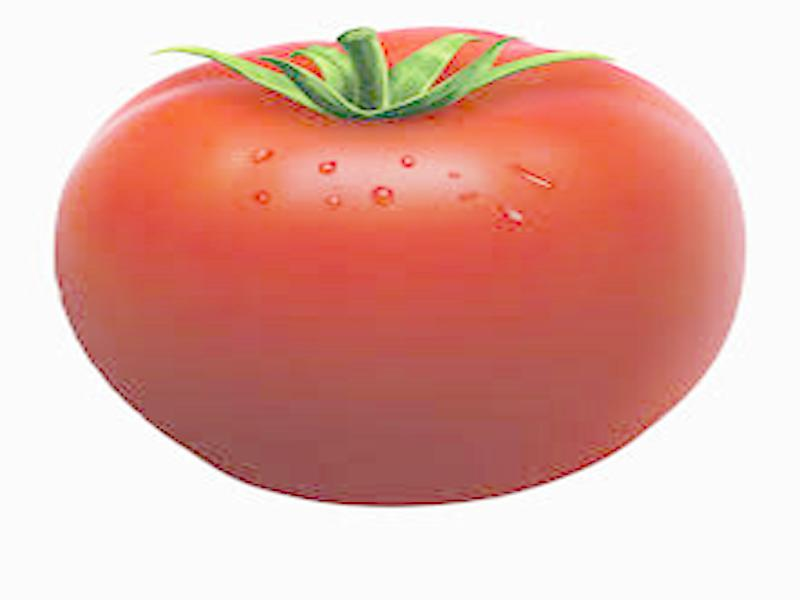Tomato: (54, 26, 662, 508)
